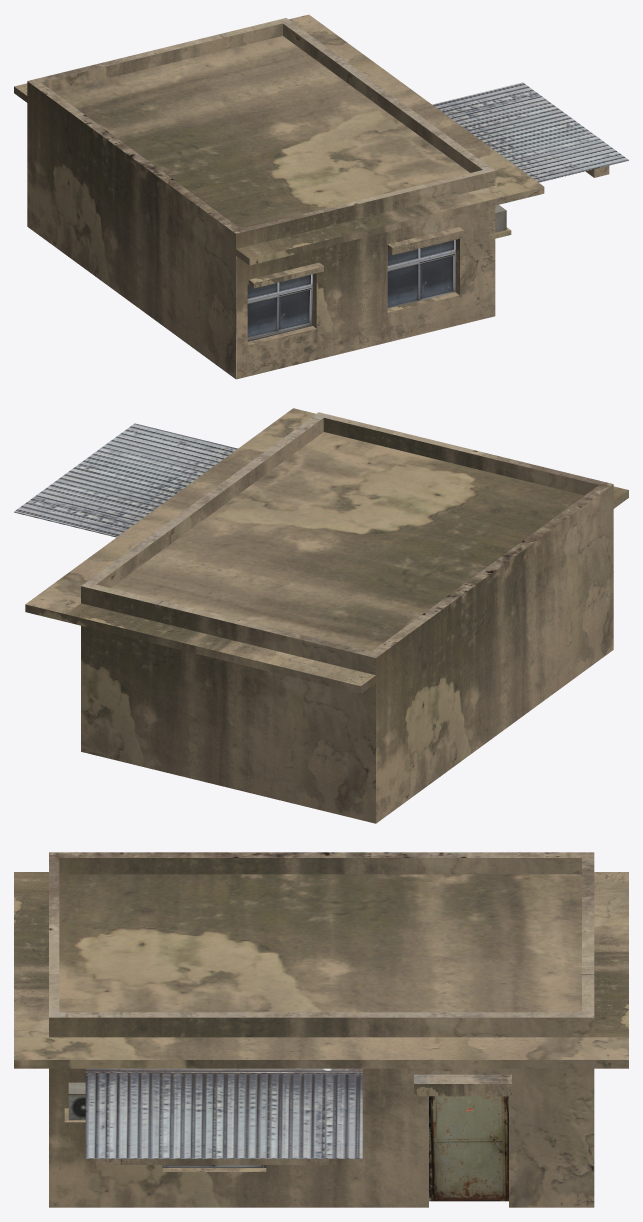
3 views of the same model, one above another, from view 1: azimuth 30°, elevation 25°; view 2: azimuth 150°, elevation 25°; view 3: azimuth 270°, elevation 25° (orthographic). The views are drawn at different scales.
Parts seen in each view (by area): view 1: Model; view 2: Model; view 3: Model.
Part boxes in pixels (x1,y1,x2,y2): Model: [14, 14, 628, 379]; Model: [14, 408, 628, 823]; Model: [14, 852, 628, 1207].
Bounding box in the file's own units: 716 × 245 × 718.
